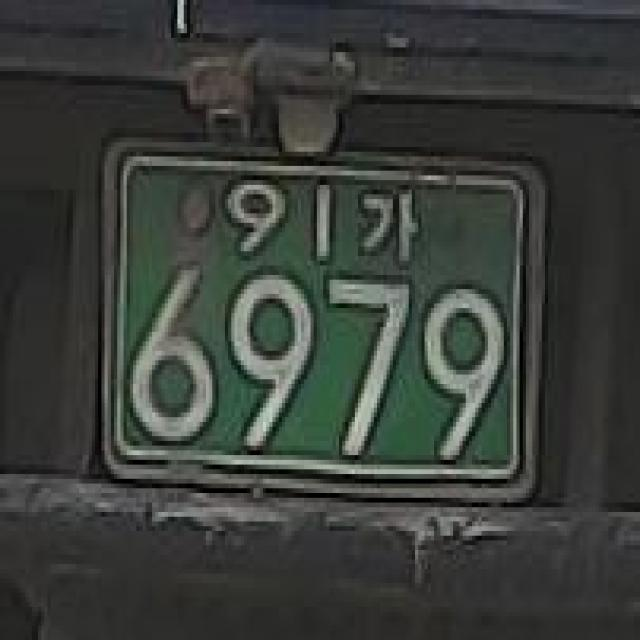illegal_plate: (89, 122, 556, 529)
